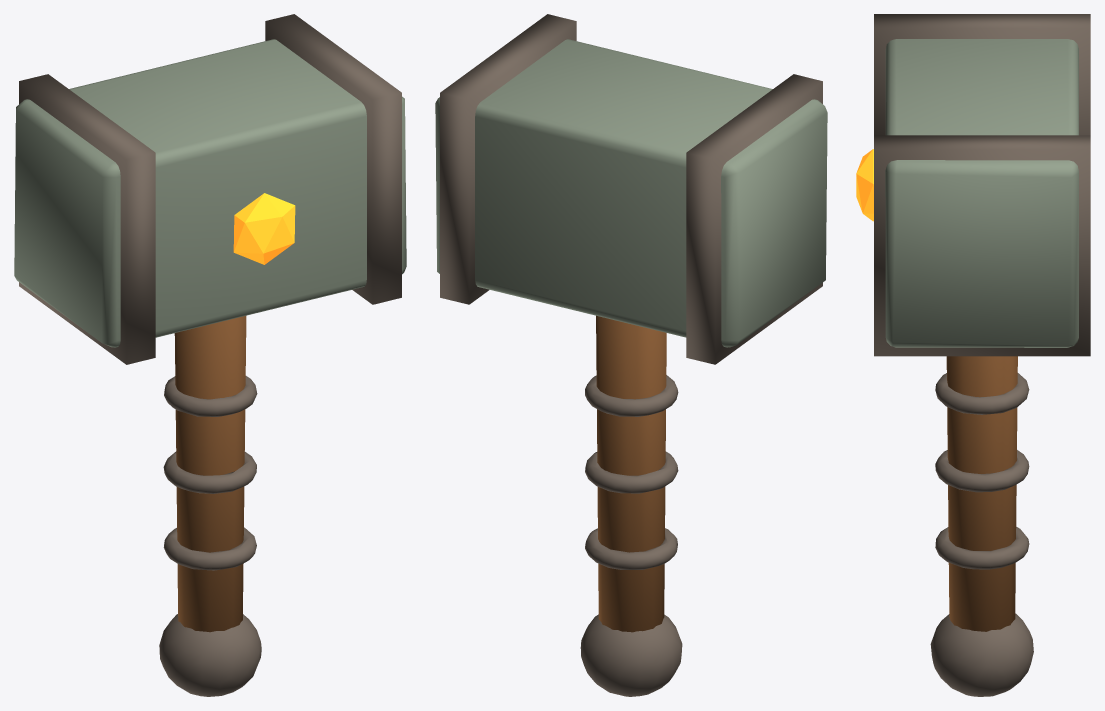
File: weapon-hammer.glb
3 views of the same model, side by side, from view 1: azimuth 30°, elevation 25°; view 2: azimuth 150°, elevation 25°; view 3: azimuth 270°, elevation 25° (orthographic).
Parts seen in each view (by area): view 1: Cube; view 2: Cube; view 3: Cube.
Boxes of the visible parts, <box> form: Cube: <box>14,14,406,696</box>; Cube: <box>435,14,827,696</box>; Cube: <box>856,14,1090,696</box>.
Bounding box in the file's own units: 0.6172 × 1.17 × 0.4089.
